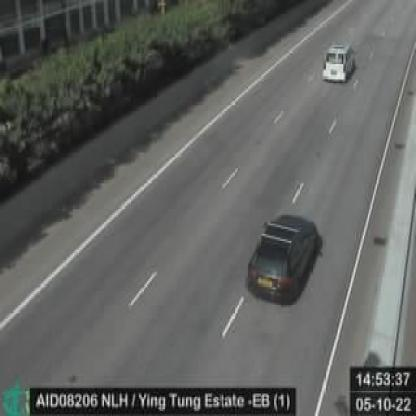Car: (243, 213, 319, 300), (321, 43, 355, 80)
